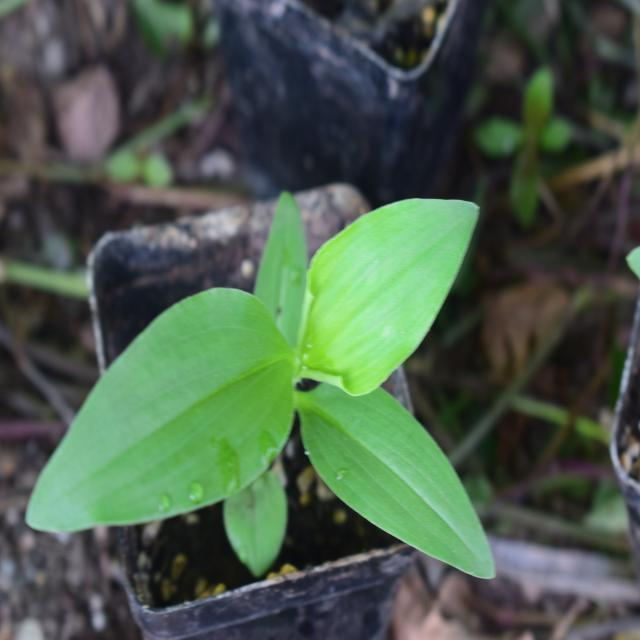Common Dayflower: (62, 184, 504, 582)
